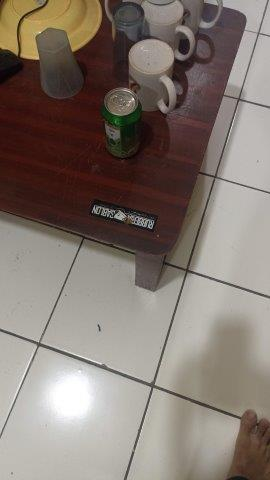kaleng: (103, 89, 143, 162)
